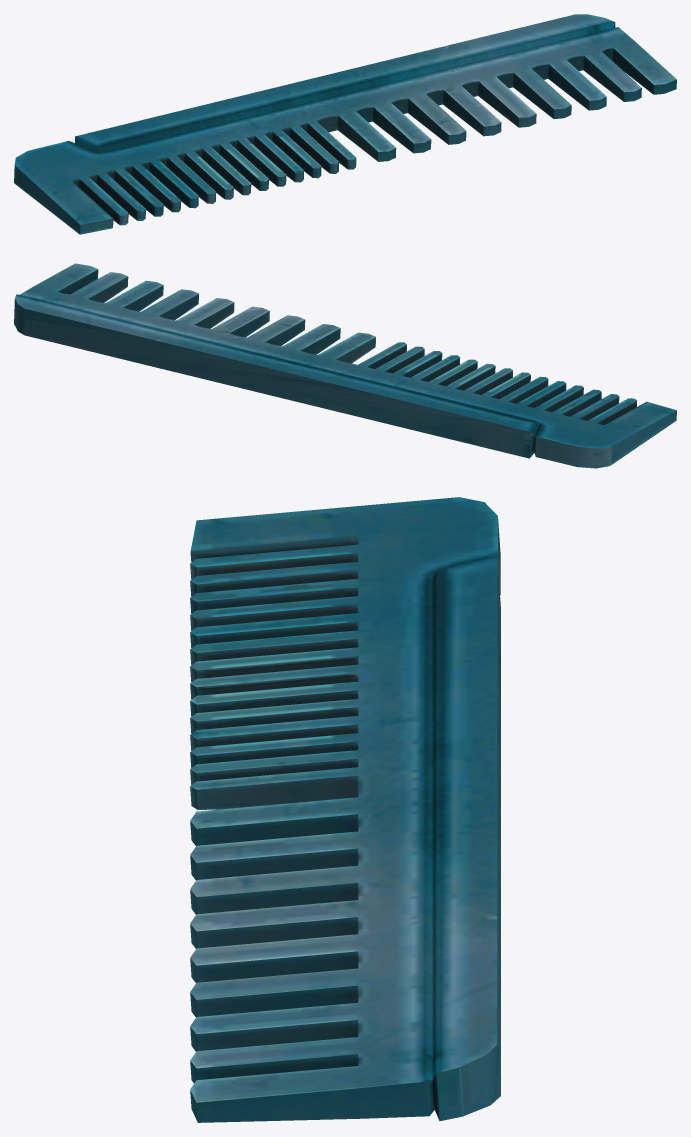
The model's file is comb.dae.
3 renders of one model, top to bottom at view 1: azimuth 30°, elevation 25°; view 2: azimuth 150°, elevation 25°; view 3: azimuth 270°, elevation 25°, orthographic. The views are drawn at different scales.
Parts seen in each view (by area): view 1: comb; view 2: comb; view 3: comb.
Part boxes in pixels (bbox=[...]): comb: bbox=[14, 14, 676, 234]; comb: bbox=[14, 263, 676, 468]; comb: bbox=[190, 497, 500, 1122].
Bounding box in the file's own units: 0.2985 × 0.0127 × 0.0673.
